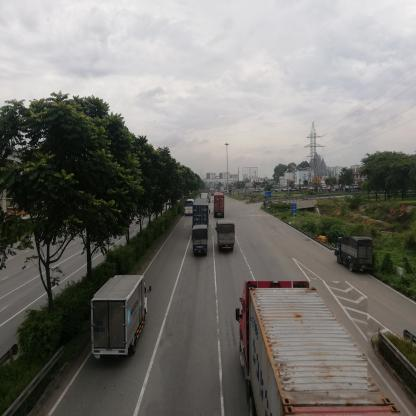bus: (185, 202, 194, 216)
container: (241, 282, 369, 416), (195, 200, 210, 223), (216, 192, 225, 217)
truck: (95, 279, 146, 358), (333, 238, 373, 275), (219, 223, 235, 256), (193, 226, 209, 258)
